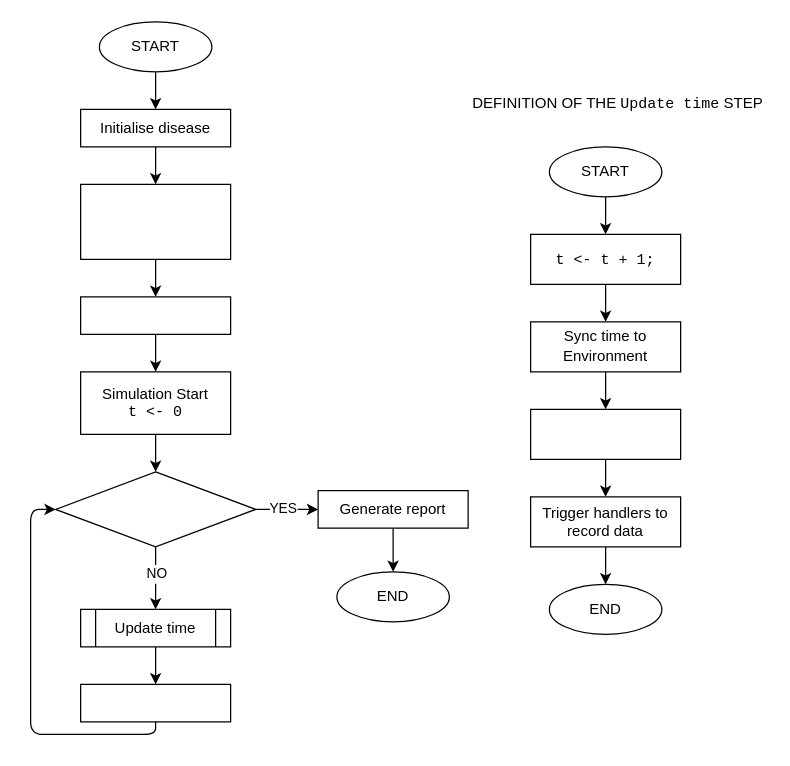
Image size: 790x766. Some labels were removed from this diagram. The centre of each missing label's shape, as x and y in pixels:
"Call apply dynamics" goes at pixel 605 433.
"Define routines" goes at pixel 155 315.
"delay for tick time" goes at pixel 155 702.
"Initialise healthy & infected agents randomly" goes at pixel 155 221.
"t >= TIME_SPAN ?" goes at pixel 155 509.
